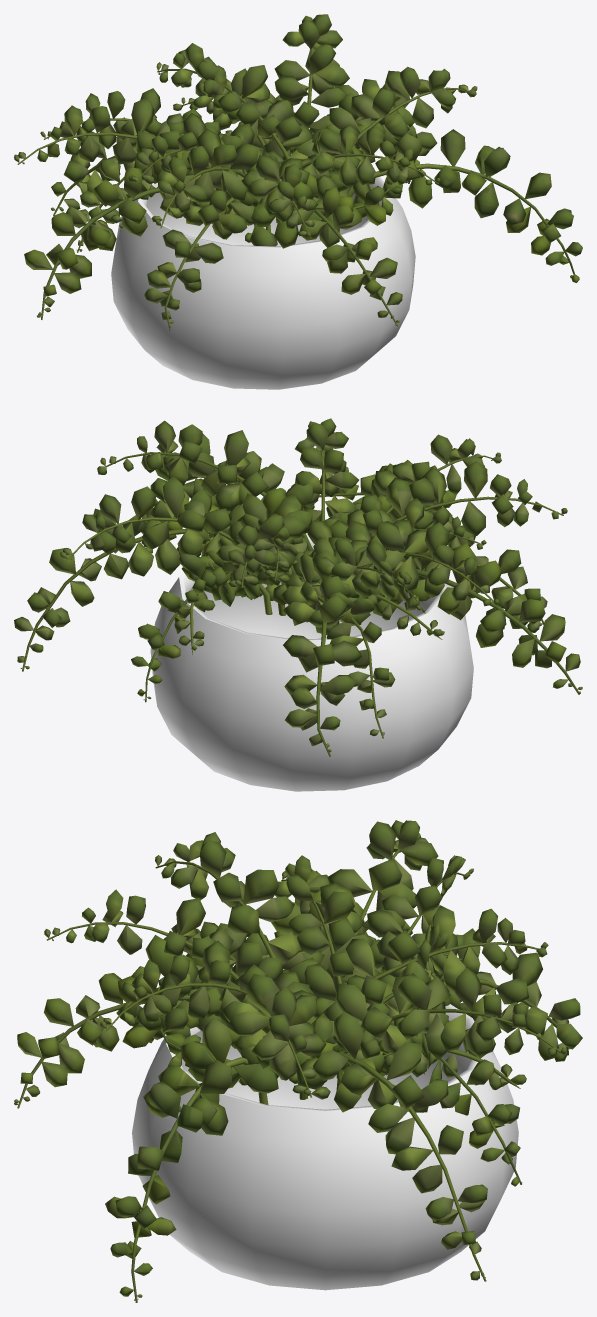
File: Plant2.glb
3 renders of one model, top to bottom at view 1: azimuth 30°, elevation 25°; view 2: azimuth 150°, elevation 25°; view 3: azimuth 270°, elevation 25°, orthographic. The views are drawn at different scales.
Parts seen in each view (by area): view 1: Plant_small.001, Pot_small, Plant_small; view 2: Plant_small.001, Pot_small, Plant_small; view 3: Plant_small.001, Pot_small, Plant_small.
Boxes of the visible parts, box(x1,y1,x2,y2) form: Plant_small.001: box(14, 14, 582, 319); Pot_small: box(111, 154, 415, 389); Plant_small: box(40, 65, 440, 330); Plant_small.001: box(14, 420, 582, 756); Pot_small: box(150, 533, 473, 791); Plant_small: box(131, 418, 547, 738); Plant_small.001: box(105, 820, 582, 1302); Pot_small: box(132, 1004, 518, 1290); Plant_small: box(14, 855, 522, 1186).
Size of the model in its own units: 0.7641 by 0.4029 by 0.6243.
Materials: 2 (1 with a texture image).
